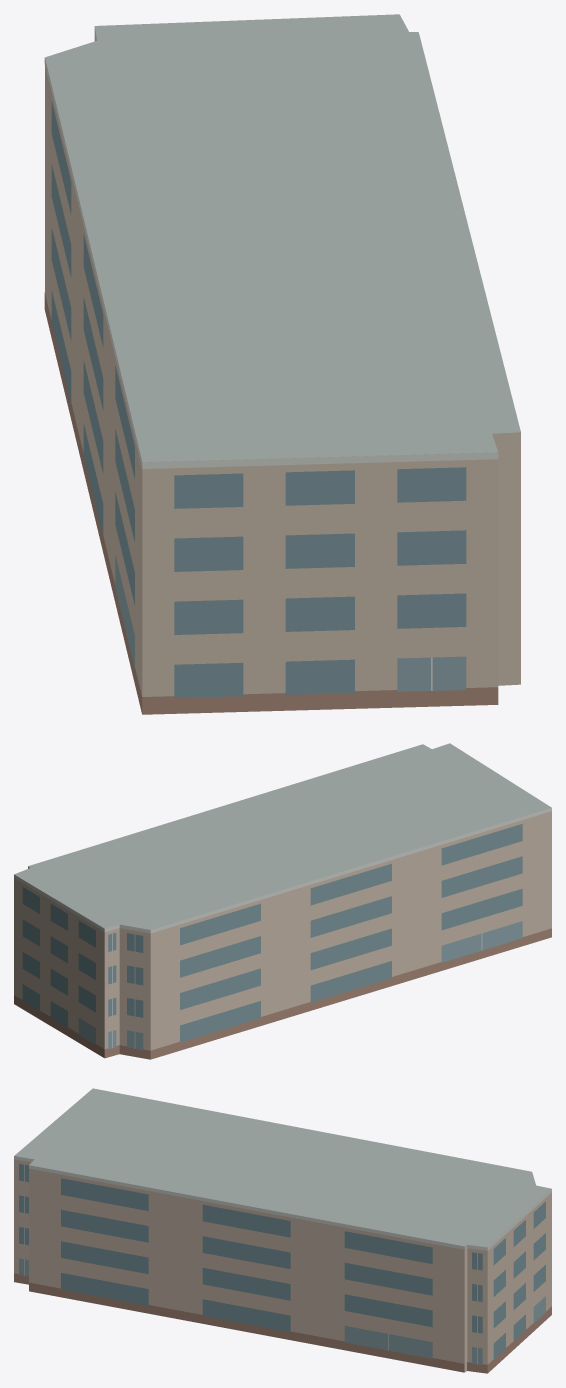
The model's file is survey-upis-32959146.glb.
The picture shows the model from 3 angles, top to bottom: view 1: azimuth 30°, elevation 25°; view 2: azimuth 150°, elevation 25°; view 3: azimuth 270°, elevation 25°; orthographic projection. The views are drawn at different scales.
Visible parts, largest first — view 1: survey-upis-32959146.tmp; view 2: survey-upis-32959146.tmp; view 3: survey-upis-32959146.tmp.
Part boxes in pixels (bbox=[...]): survey-upis-32959146.tmp: bbox=[44, 14, 520, 714]; survey-upis-32959146.tmp: bbox=[14, 743, 551, 1059]; survey-upis-32959146.tmp: bbox=[14, 1088, 551, 1373].
Bounding box in the file's own units: 24.35 × 9 × 34.78.
